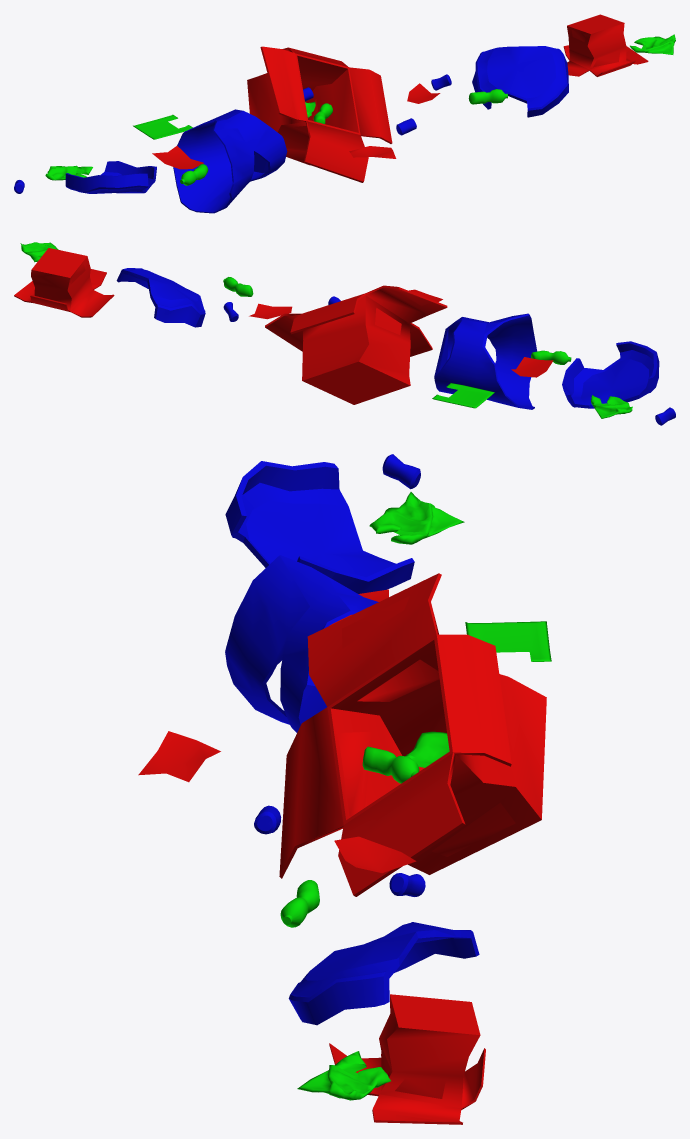
Rendered from SM_Garbage_04.FBX.
3 renders of one model, top to bottom at view 1: azimuth 30°, elevation 25°; view 2: azimuth 150°, elevation 25°; view 3: azimuth 270°, elevation 25°, orthographic. The views are drawn at different scales.
Parts seen in each view (by area): view 1: Lid_24; view 2: Lid_24; view 3: Lid_24.
Boxes of the visible parts, bbox=[...] form: Lid_24: bbox=[14, 14, 675, 213]; Lid_24: bbox=[14, 242, 675, 425]; Lid_24: bbox=[138, 454, 551, 1124].
Size of the model in its own units: 1261 by 347 by 238.
